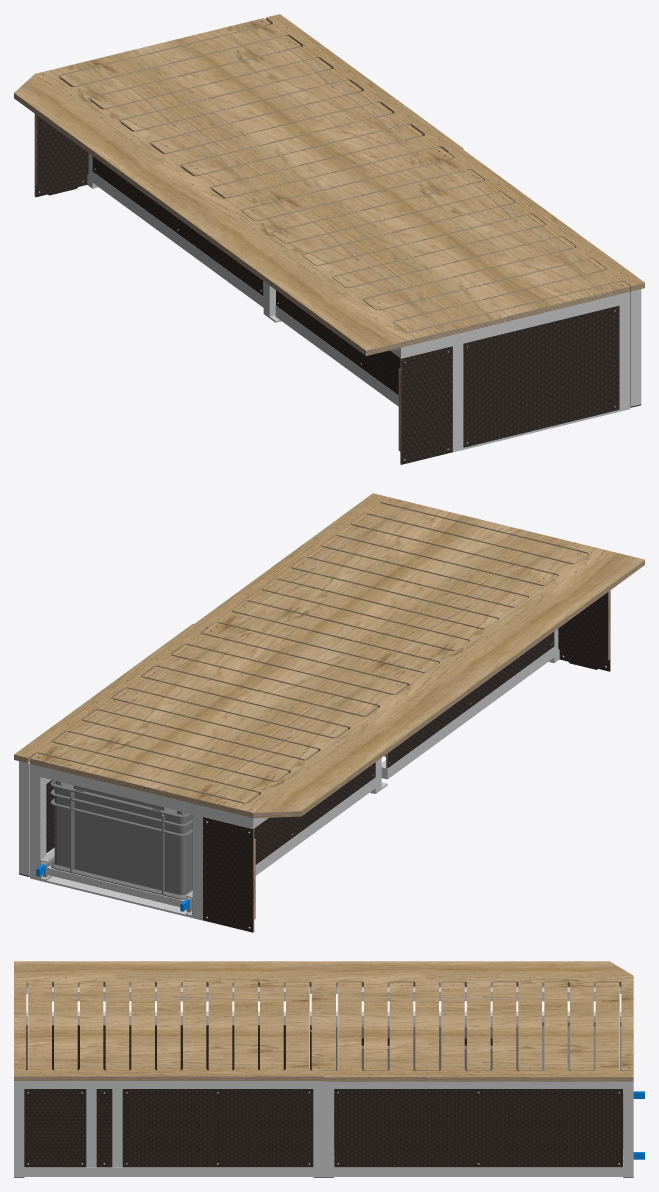
Rendered from aluminum-bed-hexa.glb.
The picture shows the model from 3 angles, top to bottom: view 1: azimuth 30°, elevation 25°; view 2: azimuth 150°, elevation 25°; view 3: azimuth 270°, elevation 25°; orthographic projection. The views are drawn at different scales.
Parts seen in each view (by area): view 1: 天板1 (1)_0, 天板2_0, 天板1_0, 天板2 (1)_0, ボディ63_1, ボディ105_0, t15 (1)_0, t15_0, ボディ55 (1)_1, ボディ53_1, bed (2) (1) (5) (1)_0, bed (2) (1) (2) (1)_0 (+4 smaller); view 2: 天板1_0, 天板2_0, 天板1 (1)_0, 天板2 (1)_0, ボディ105_0, h235_0, t15_0, t15 (1)_0, ボディ53_1, ボディ55 (1)_1, bed (2) (1) (5)_0, bed (2) (1) (2) (1) (1)_0 (+7 smaller); view 3: pannel_1.001, 天板2_0, 天板2 (1)_0, 天板1 (1)_0, 天板1_0, ボディ27_1, ボディ105_0, ボディ25_1, slide (4)_0, slide (4)_0.001, slide (3)_0.001, slide (3)_0 (+15 smaller).
Boxes of the visible parts, box(x1,y1,x2,y2) form: 天板1 (1)_0: box(218, 152, 630, 347); 天板2_0: box(60, 14, 463, 198); 天板1_0: box(35, 18, 446, 207); 天板2 (1)_0: box(241, 148, 644, 332); ボディ63_1: box(463, 306, 619, 447); ボディ105_0: box(14, 74, 400, 355); t15 (1)_0: box(401, 346, 452, 464); t15_0: box(35, 116, 88, 197); ボディ55 (1)_1: box(92, 156, 263, 295); ボディ53_1: box(276, 290, 404, 394); bed (2) (1) (5) (1)_0: box(411, 294, 619, 355); bed (2) (1) (2) (1)_0: box(92, 172, 263, 307); 天板1_0: box(30, 627, 431, 818); 天板2_0: box(14, 624, 407, 803); 天板1 (1)_0: box(209, 497, 610, 681); 天板2 (1)_0: box(194, 493, 587, 672); ボディ105_0: box(253, 551, 644, 818); h235_0: box(50, 785, 192, 899); t15_0: box(203, 817, 253, 932); t15 (1)_0: box(558, 592, 609, 671); ボディ53_1: box(387, 631, 554, 767); ボディ55 (1)_1: box(250, 762, 375, 864); bed (2) (1) (5)_0: box(40, 766, 242, 826); bed (2) (1) (2) (1) (1)_0: box(381, 647, 554, 779); pannel_1.001: box(334, 1089, 622, 1167); 天板2_0: box(323, 982, 633, 1081); 天板2 (1)_0: box(14, 981, 323, 1080); 天板1 (1)_0: box(14, 975, 323, 1070); 天板1_0: box(323, 975, 633, 1070); ボディ27_1: box(122, 1089, 313, 1167); ボディ105_0: box(14, 961, 632, 975); ボディ25_1: box(24, 1089, 86, 1167); slide (4)_0: box(334, 1163, 623, 1176); slide (4)_0.001: box(24, 1163, 313, 1176); slide (3)_0.001: box(24, 1081, 313, 1088); slide (3)_0: box(334, 1081, 623, 1088).
Bounding box in the file's own units: 0.7952 × 0.3335 × 1.83.
10 materials, 3 textured.
